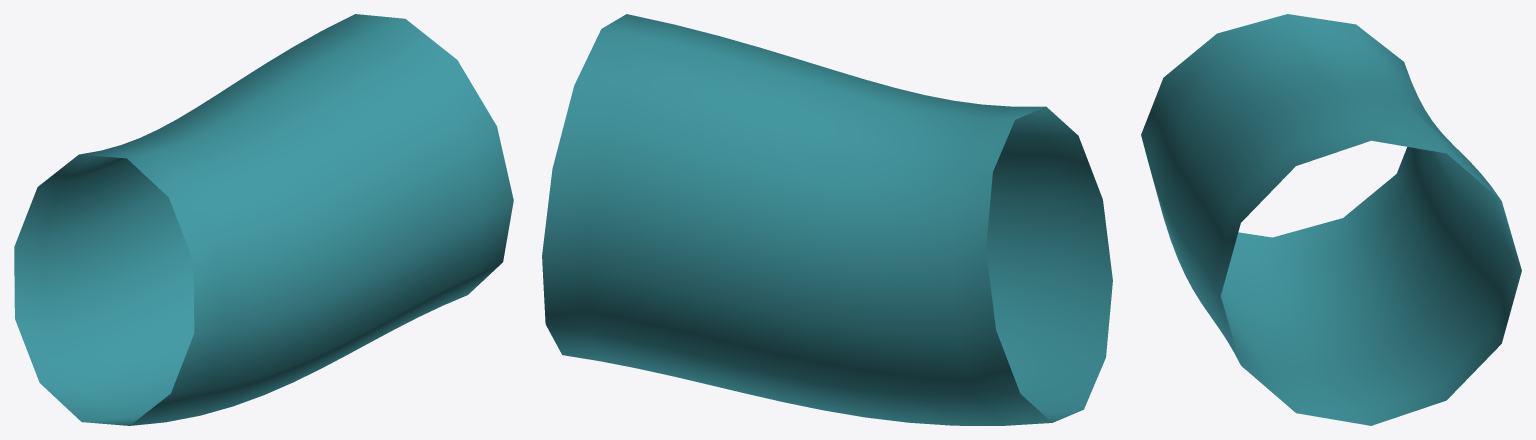
3 renders of one model, left to right at view 1: azimuth 30°, elevation 25°; view 2: azimuth 150°, elevation 25°; view 3: azimuth 270°, elevation 25°, orthographic. The views are drawn at different scales.
Parts seen in each view (by area): view 1: 右肺上叶支气管; view 2: 右肺上叶支气管; view 3: 右肺上叶支气管.
Boxes of the visible parts, x1=… form: 右肺上叶支气管: x1=14, y1=14, x2=513, y2=425; 右肺上叶支气管: x1=542, y1=14, x2=1112, y2=425; 右肺上叶支气管: x1=1141, y1=14, x2=1521, y2=425.
Bounding box in the file's own units: 0.0279 × 0.019 × 0.0218.
